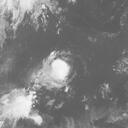cyclone: (1, 1, 65, 33), (38, 48, 75, 88), (3, 88, 44, 124)
